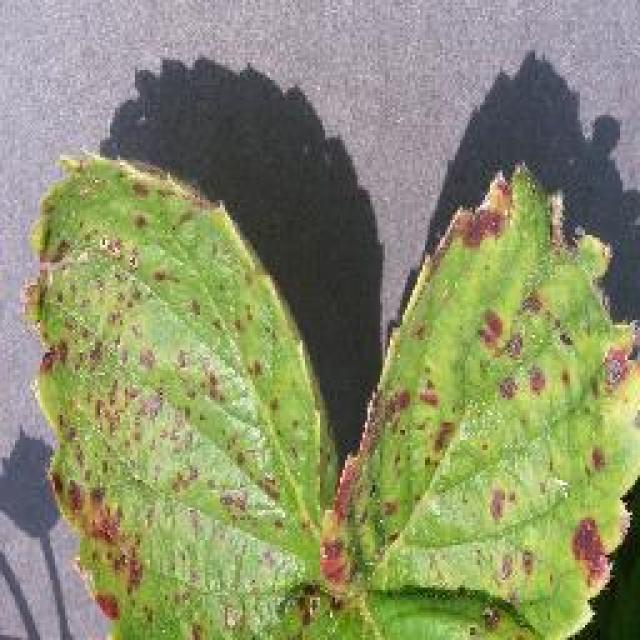Strawberry leaf scorch: (18, 177, 602, 595)
